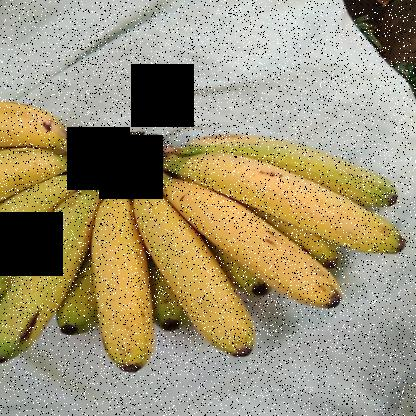freshripe: (188, 150, 415, 260), (134, 189, 257, 357), (89, 193, 155, 375), (1, 178, 70, 276)
ripe: (159, 176, 355, 312), (1, 194, 98, 366), (1, 86, 61, 146)
